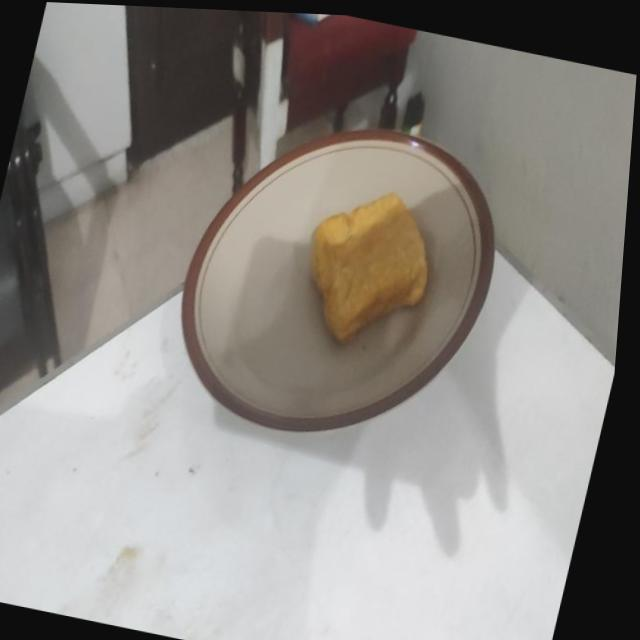tahu_goreng: (310, 194, 428, 342)
